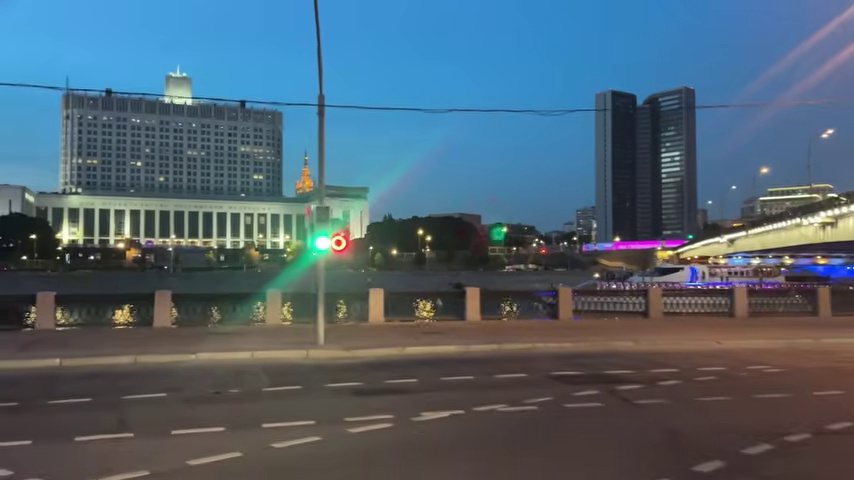acesa: (821, 126, 835, 140), (758, 164, 771, 177)
